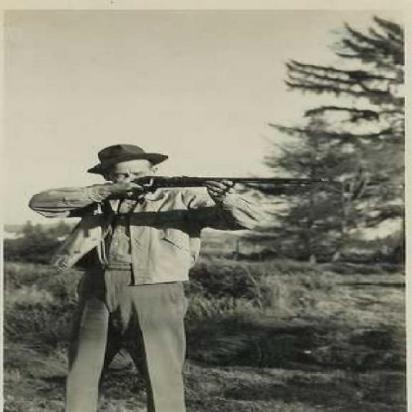Gun: (98, 158, 353, 210)
